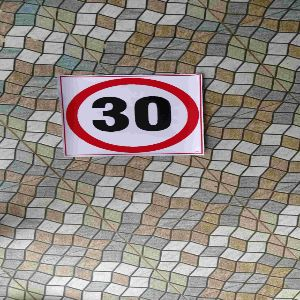speedlimit30: (59, 75, 203, 155)
